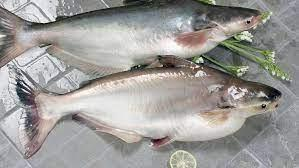Pangasius: (30, 65, 295, 154), (0, 1, 268, 69)
